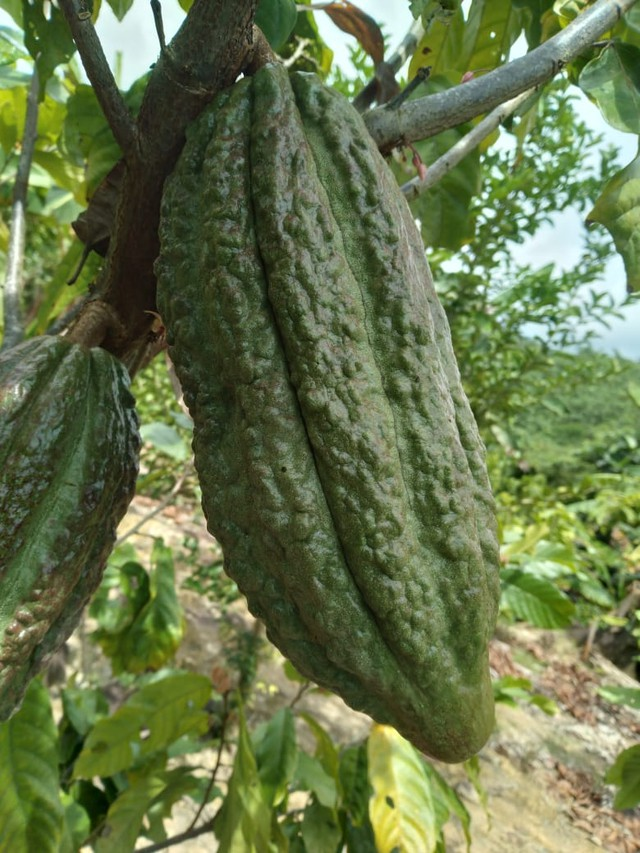Health: (130, 30, 526, 785), (525, 399, 562, 415)
